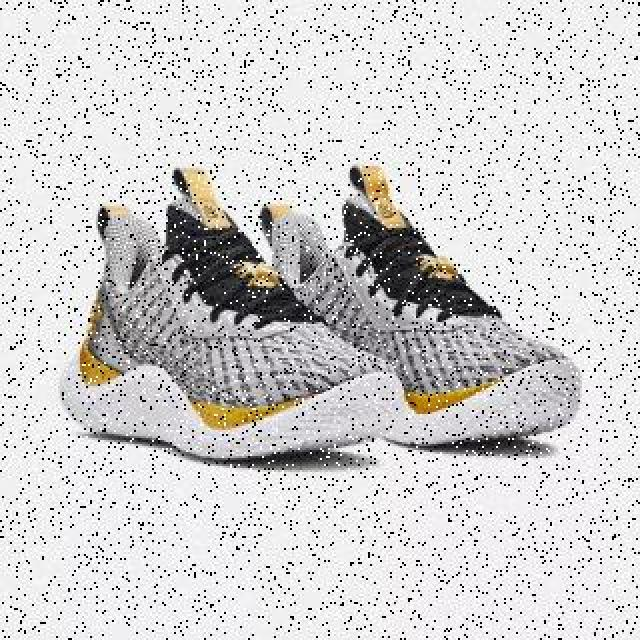shoe: (58, 165, 404, 461), (228, 164, 582, 446)
